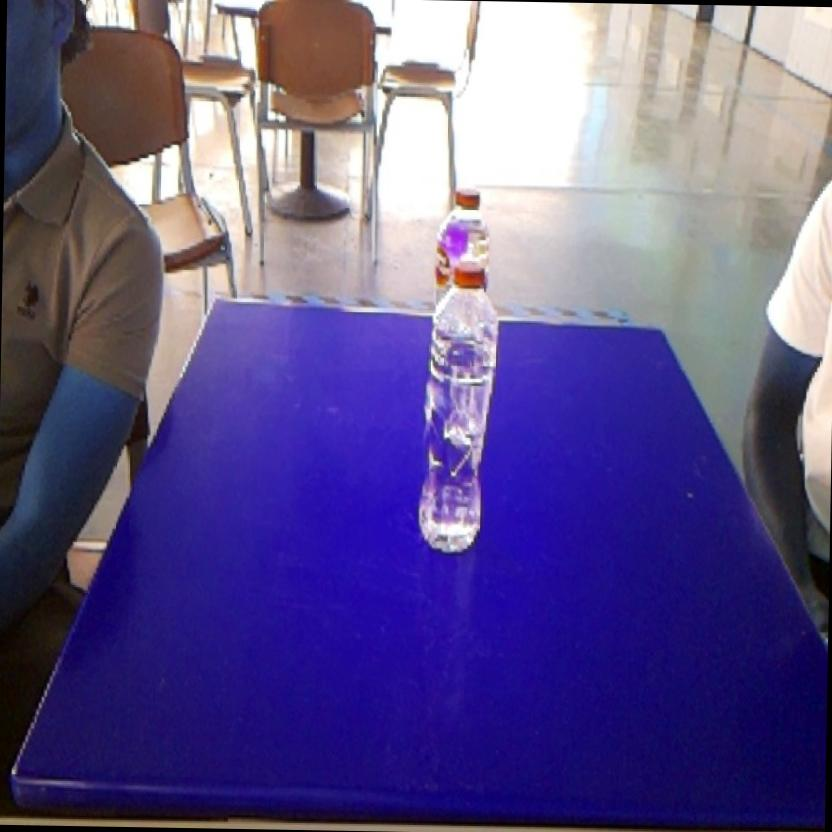good: (424, 172, 506, 258)
no_label: (412, 248, 507, 561)
